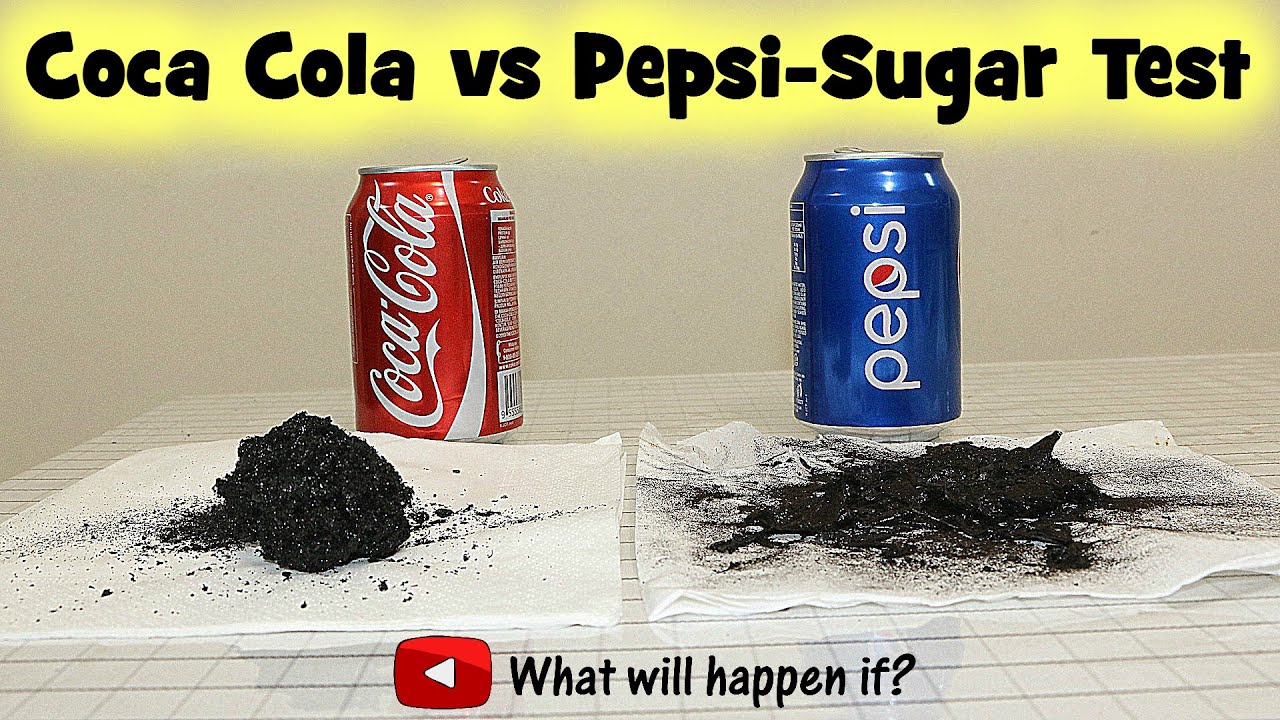pepsi: (869, 259, 902, 293), (870, 260, 902, 293)
